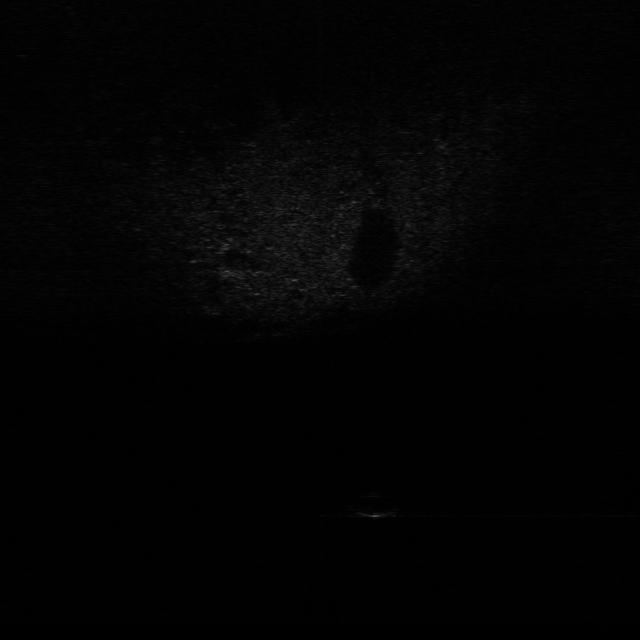ball: (344, 489, 402, 520)
